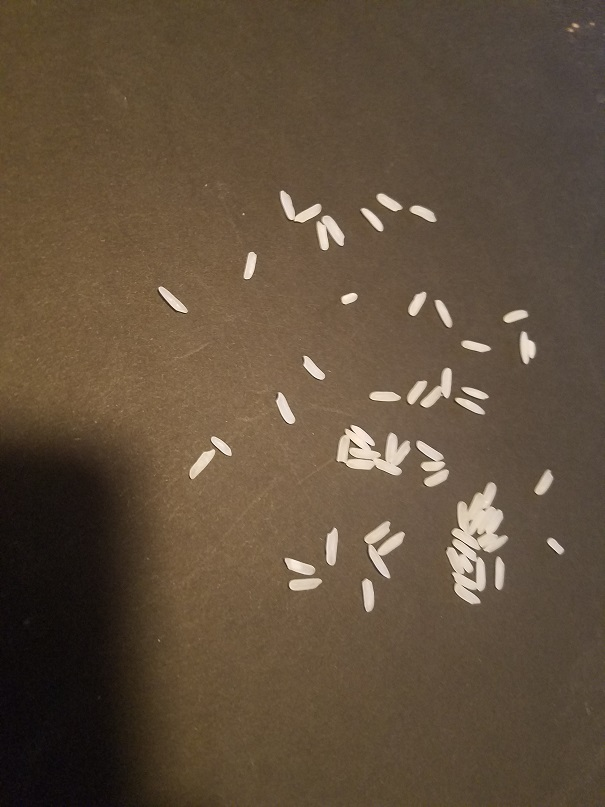egg: (363, 545, 396, 581), (270, 389, 301, 427), (157, 282, 191, 316), (185, 447, 218, 481), (321, 212, 349, 248), (347, 420, 385, 445), (403, 287, 431, 320), (292, 200, 326, 227), (452, 395, 490, 419), (375, 528, 408, 554), (299, 351, 327, 381), (207, 432, 236, 460), (357, 205, 386, 233), (375, 188, 405, 215), (282, 556, 320, 577), (476, 479, 497, 517), (449, 525, 481, 549), (430, 297, 454, 329), (363, 517, 392, 543), (452, 537, 482, 562), (324, 525, 340, 569), (314, 216, 333, 253), (480, 509, 505, 537), (407, 204, 440, 225), (276, 187, 294, 225), (285, 575, 325, 592), (360, 575, 377, 615), (482, 533, 514, 554), (414, 438, 446, 459), (451, 584, 481, 606), (418, 384, 443, 410), (344, 429, 371, 453), (437, 364, 455, 400), (458, 384, 492, 403), (390, 437, 412, 466), (444, 543, 465, 573), (492, 555, 508, 594), (372, 455, 401, 476), (241, 249, 260, 281), (368, 386, 402, 403), (424, 465, 449, 488), (531, 471, 553, 497), (498, 306, 531, 323), (449, 569, 477, 589), (474, 555, 490, 589), (454, 498, 470, 531), (410, 377, 427, 408), (343, 456, 375, 472), (383, 431, 398, 464), (466, 490, 483, 519), (458, 340, 493, 354), (518, 329, 530, 369), (479, 503, 497, 529), (475, 532, 497, 553), (336, 433, 349, 465), (348, 448, 379, 461), (545, 536, 566, 555), (419, 459, 448, 470), (339, 290, 358, 306)
